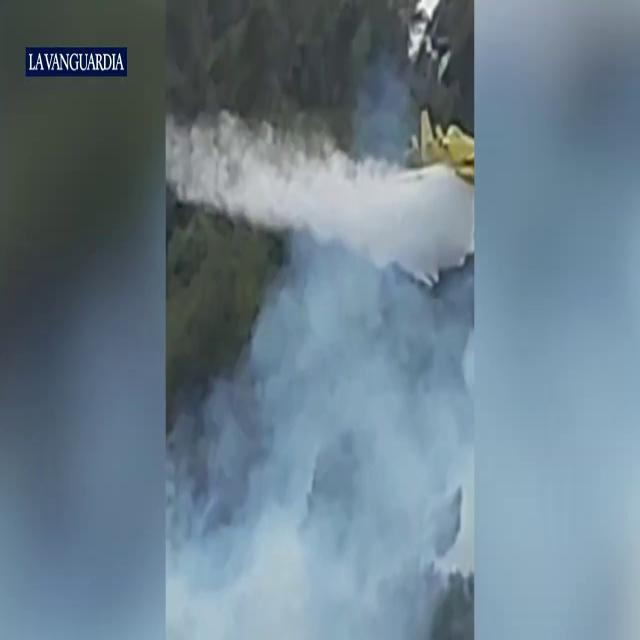Smoke: (170, 177, 473, 637)
